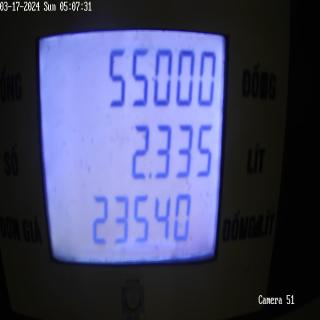screen: (32, 5, 232, 295)
